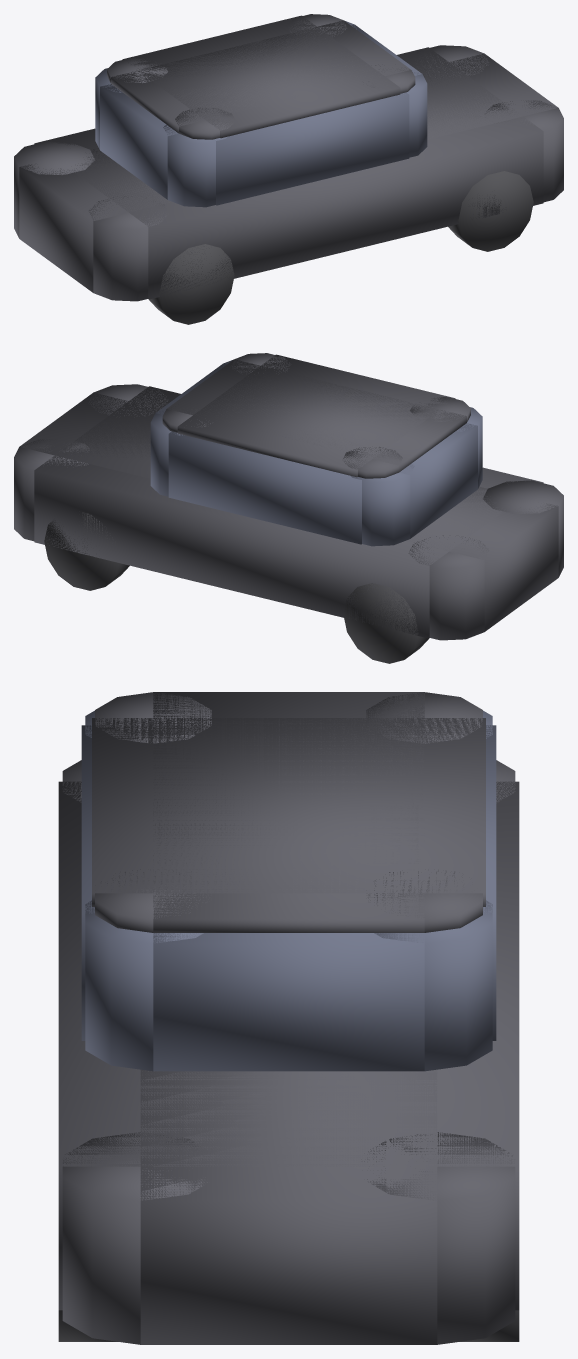
The model's file is car_black.glb.
The picture shows the model from 3 angles, top to bottom: view 1: azimuth 30°, elevation 25°; view 2: azimuth 150°, elevation 25°; view 3: azimuth 270°, elevation 25°; orthographic projection. The views are drawn at different scales.
Visible parts, largest first — view 1: car_black; view 2: car_black; view 3: car_black.
Boxes of the visible parts, <box> form: car_black: <box>14,14,563,324</box>; car_black: <box>14,353,563,663</box>; car_black: <box>58,692,519,1344</box>.
Bounding box in the file's own units: 4.2 × 1.53 × 1.8.
